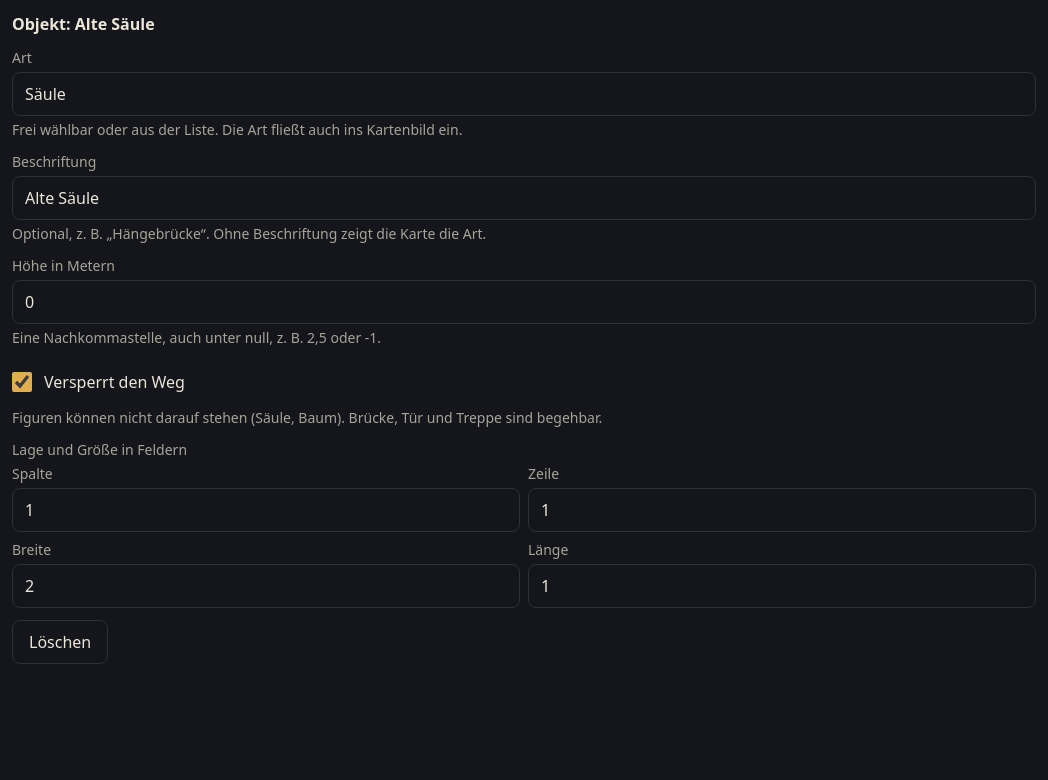
Test: property panel › changes position and size, but refuses overlaps and the grid’s edge
This screenshot has width=1048, height=780.
Replace the text in the field labelled "Spalte" with "3": (266, 510) [12, 488, 520, 532]
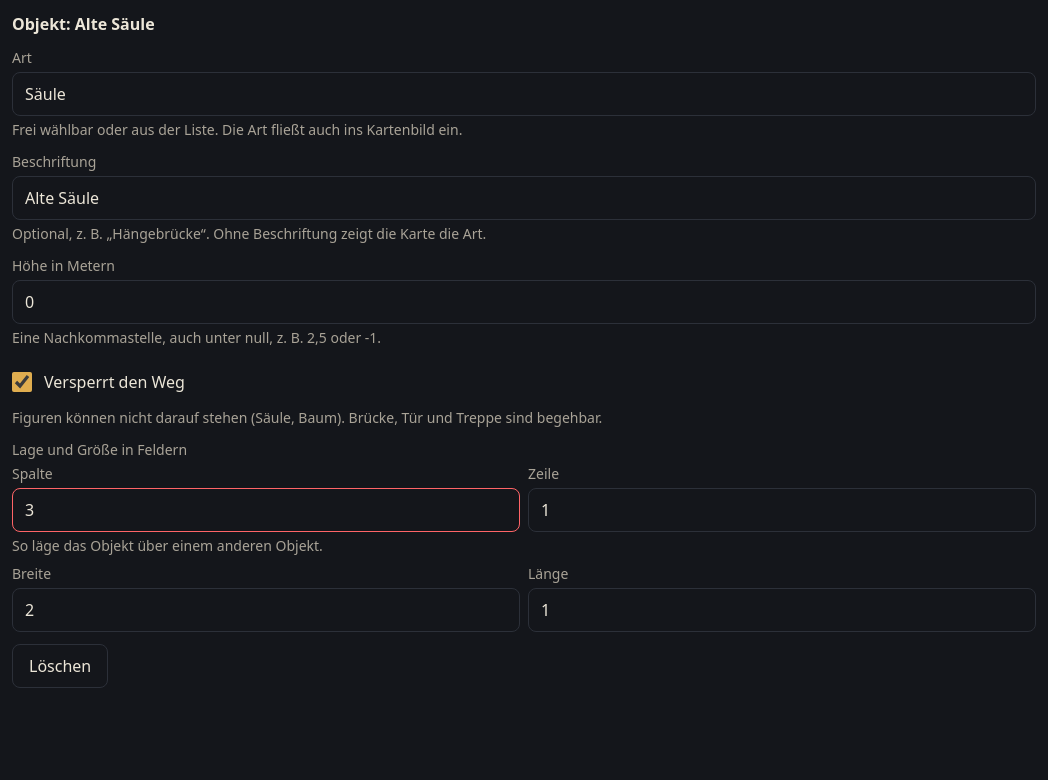
Check: the text "So läge das Objekt über einem anderen Objekt." is shown, box [12, 536, 323, 555]
Replace the text in the field labelled "Spalte" with "5": (266, 510) [12, 488, 520, 532]
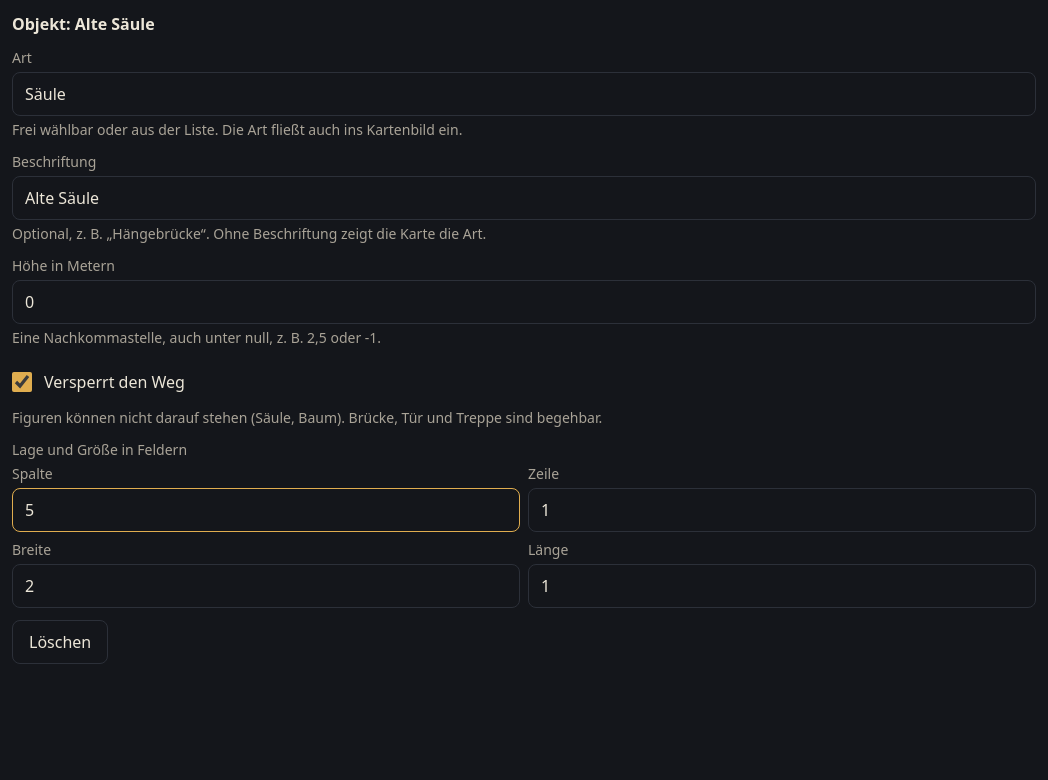
Press Tab
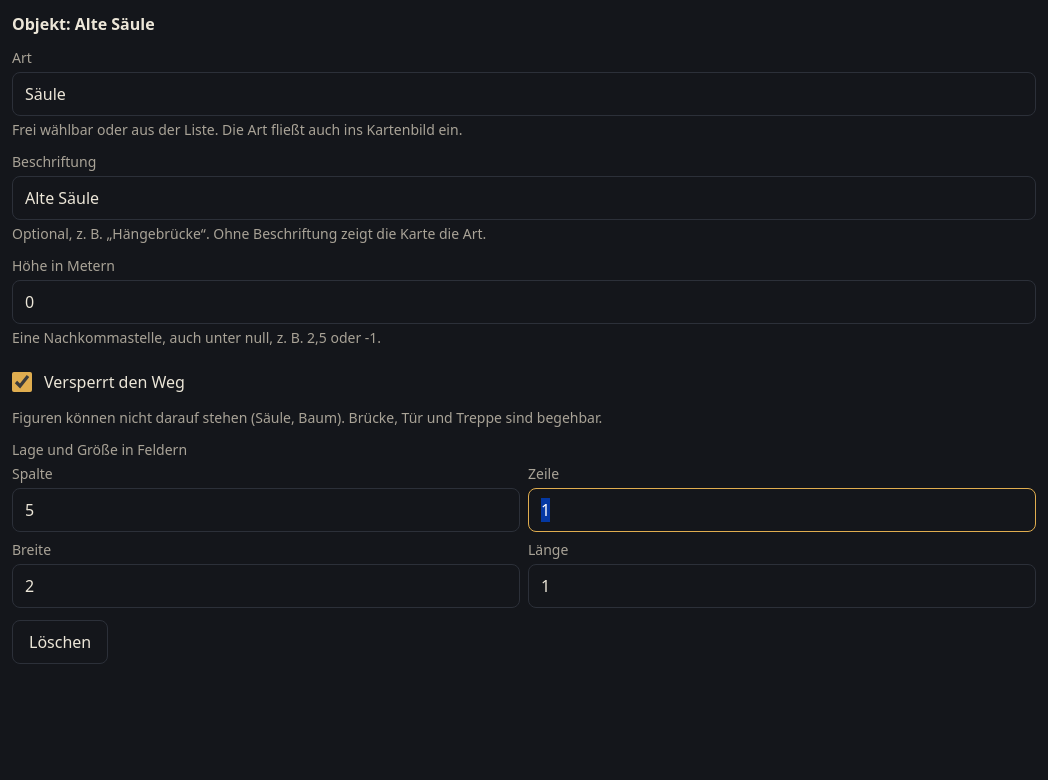
Replace the text in the field labelled "Breite" with "6": (266, 586) [12, 564, 520, 608]
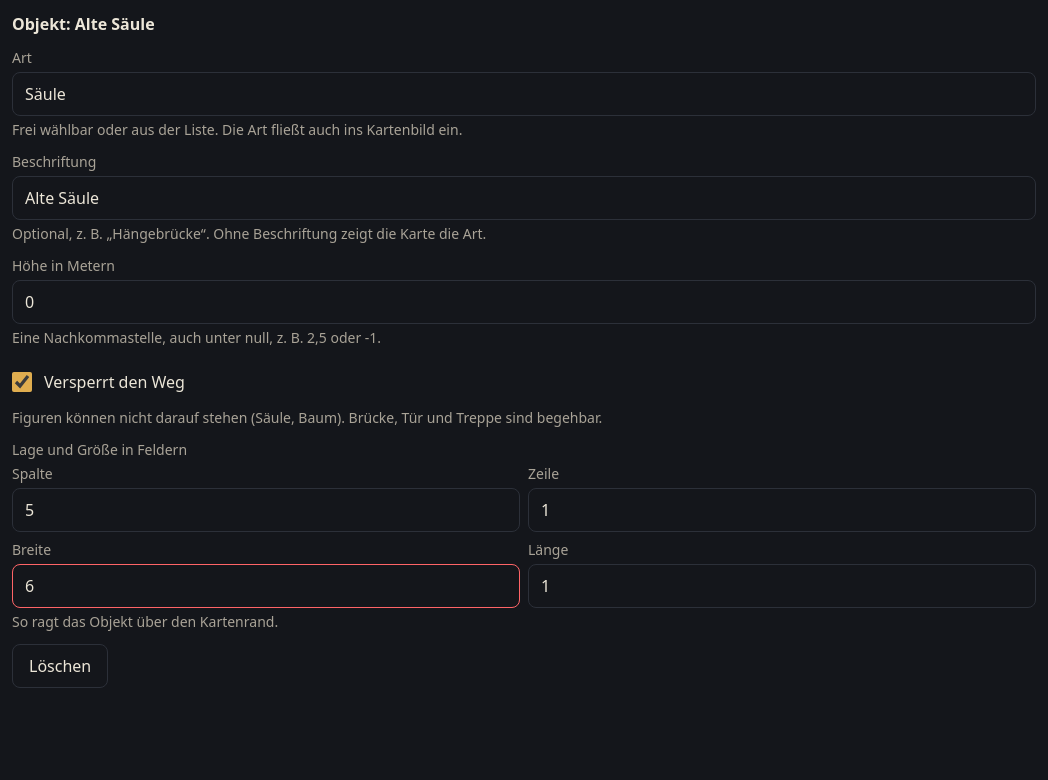
Check: the text "So ragt das Objekt über den Kartenrand." is shown, box [12, 612, 278, 631]
Replace the text in the field labelled "Breite" with "zwei": (266, 586) [12, 564, 520, 608]
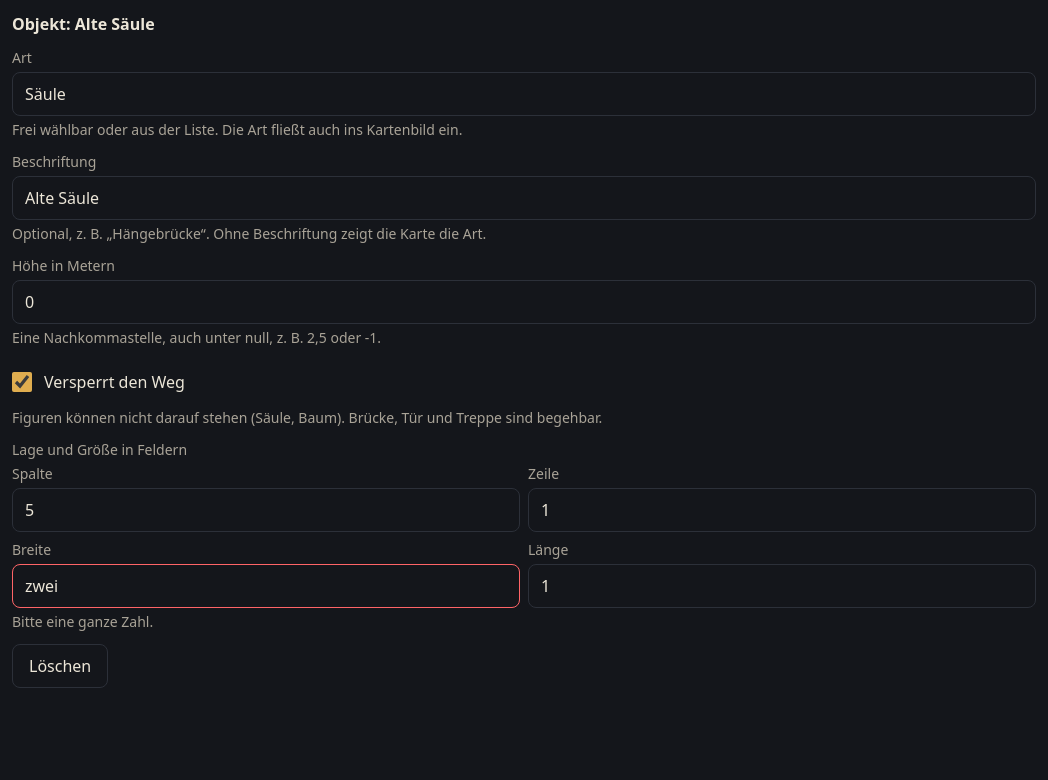
Check: the text "Bitte eine ganze Zahl." is shown, box [12, 612, 153, 631]
Press Tab
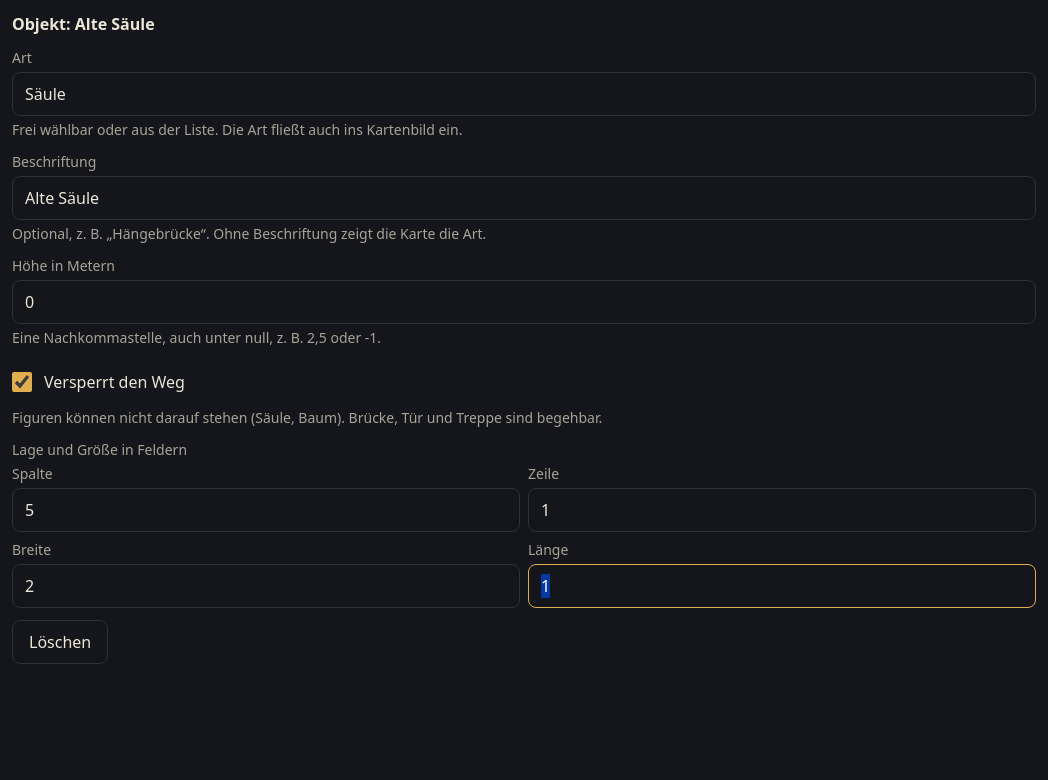
Check: the field labelled "Breite" holds "2", box [12, 564, 520, 608]
